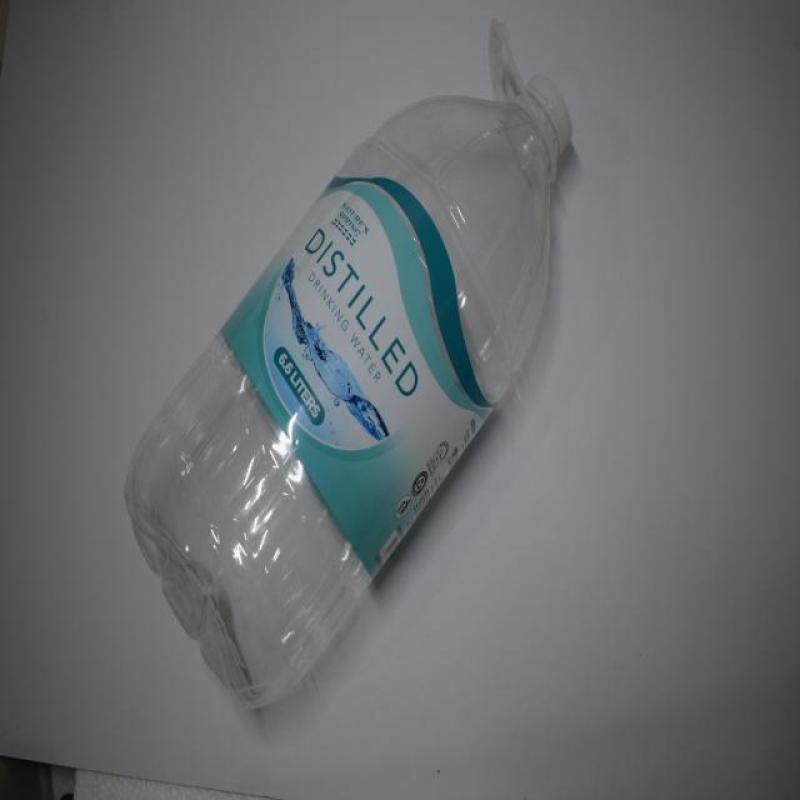botella: (123, 74, 576, 712)
